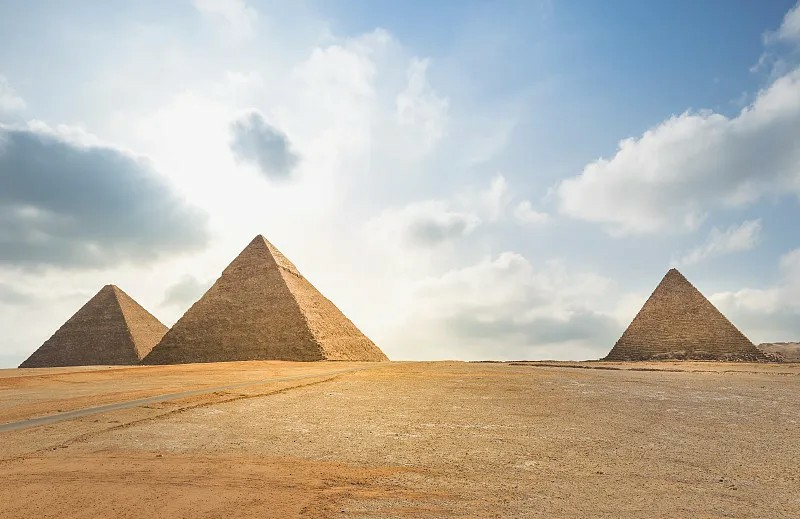Pyramid: (139, 235, 391, 361), (604, 268, 767, 364), (15, 284, 169, 362)
